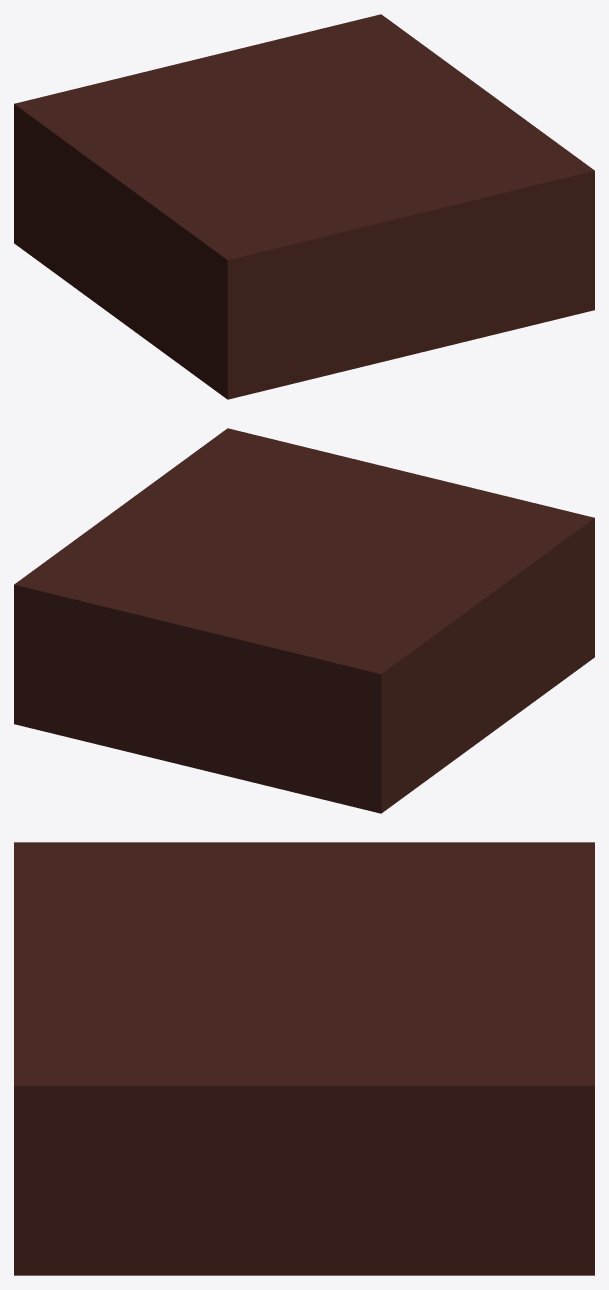
The model's file is office.fbx.
3 renders of one model, top to bottom at view 1: azimuth 30°, elevation 25°; view 2: azimuth 150°, elevation 25°; view 3: azimuth 270°, elevation 25°, orthographic. The views are drawn at different scales.
Parts seen in each view (by area): view 1: Cube; view 2: Cube; view 3: Cube.
Boxes of the visible parts, left/top/right/bottom form: Cube: left=14, top=14, right=594, bottom=399; Cube: left=14, top=428, right=594, bottom=813; Cube: left=14, top=842, right=594, bottom=1275.
Size of the model in its own units: 16843 by 6112 by 16977.
